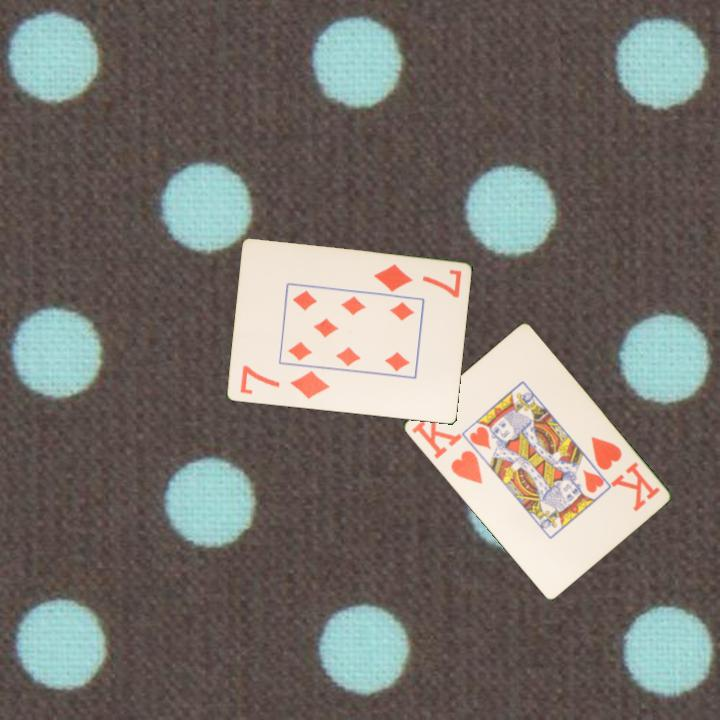7d: (236, 362, 332, 402), (370, 261, 464, 301)
Kh: (407, 405, 485, 487), (587, 433, 662, 514)
